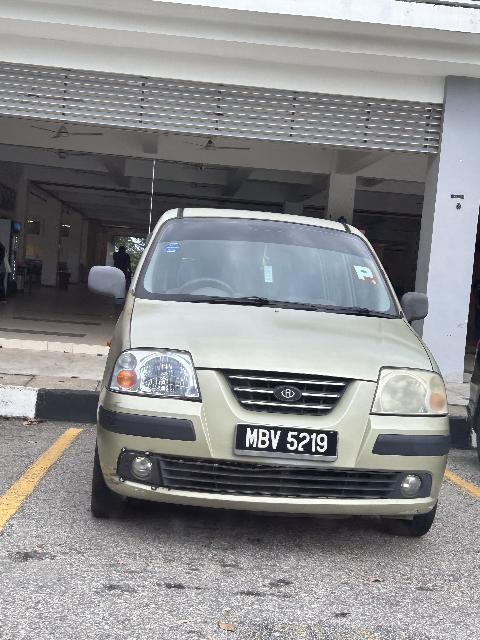License_Plate: (234, 423, 340, 467)
MBV5219: (234, 423, 340, 467)
car: (71, 203, 455, 545)
